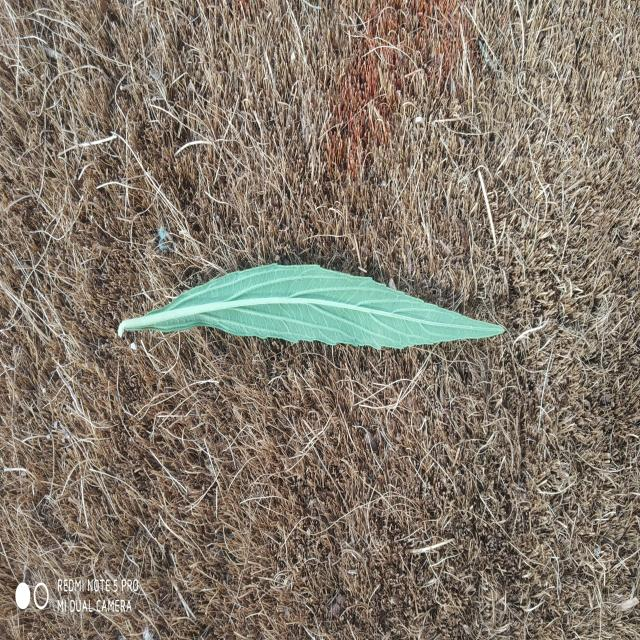defectedthambe: (228, 264, 505, 349)
thambe: (118, 264, 504, 349)
